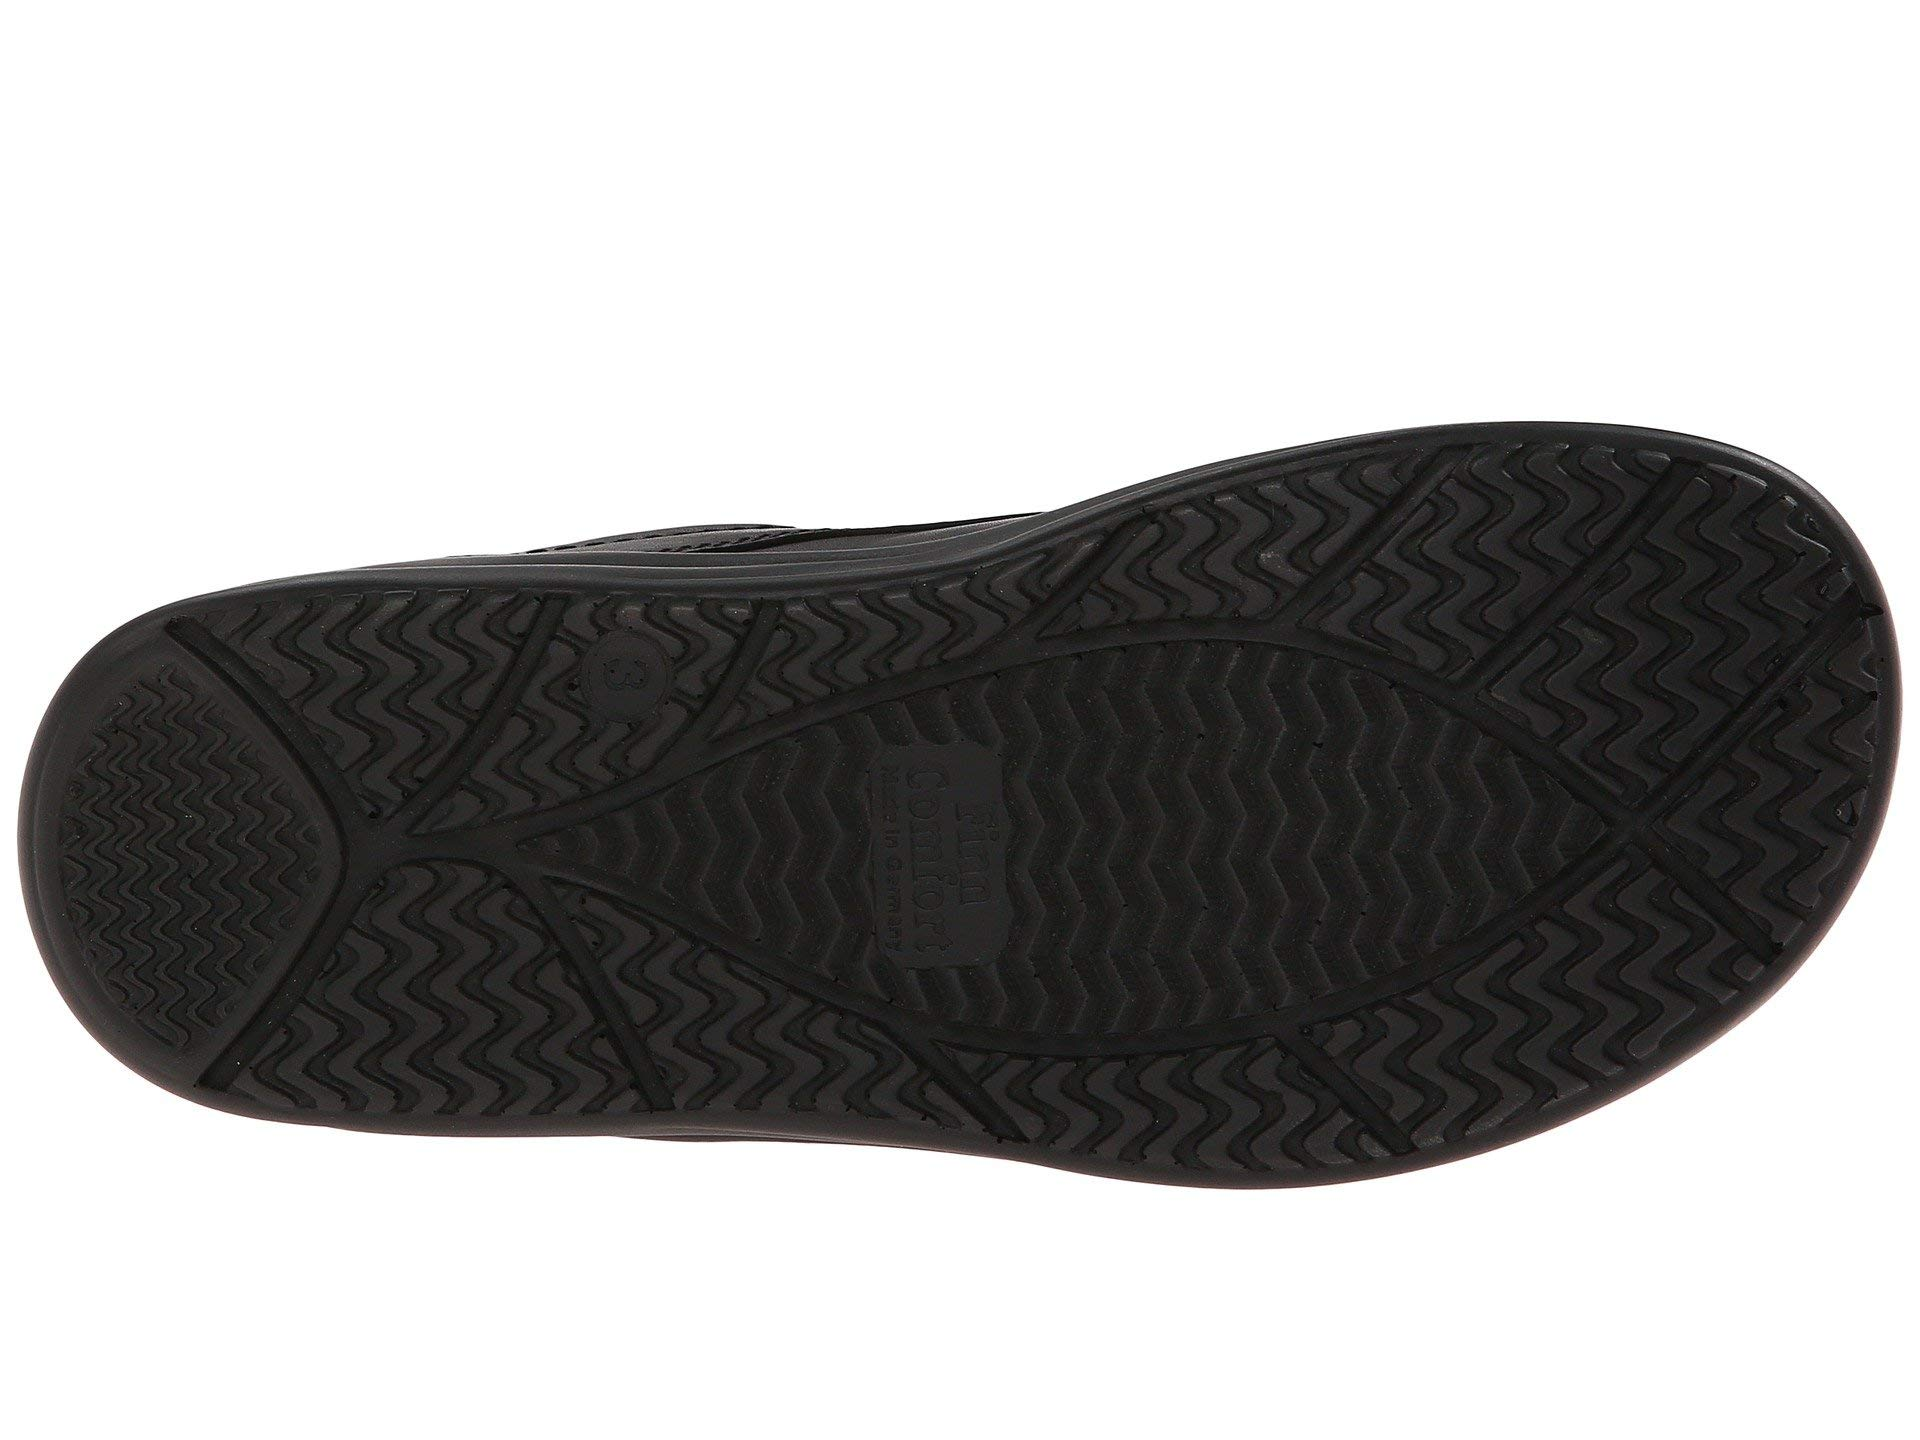chevron: (1241, 446, 1760, 1045), (77, 625, 517, 1071)
circle: (860, 741, 1010, 970), (570, 625, 670, 729)
line: (1241, 446, 1760, 1045), (77, 625, 517, 1071)
quad: (1241, 446, 1760, 1045), (860, 741, 1010, 970)
text: (860, 741, 1010, 970), (570, 625, 670, 729)
